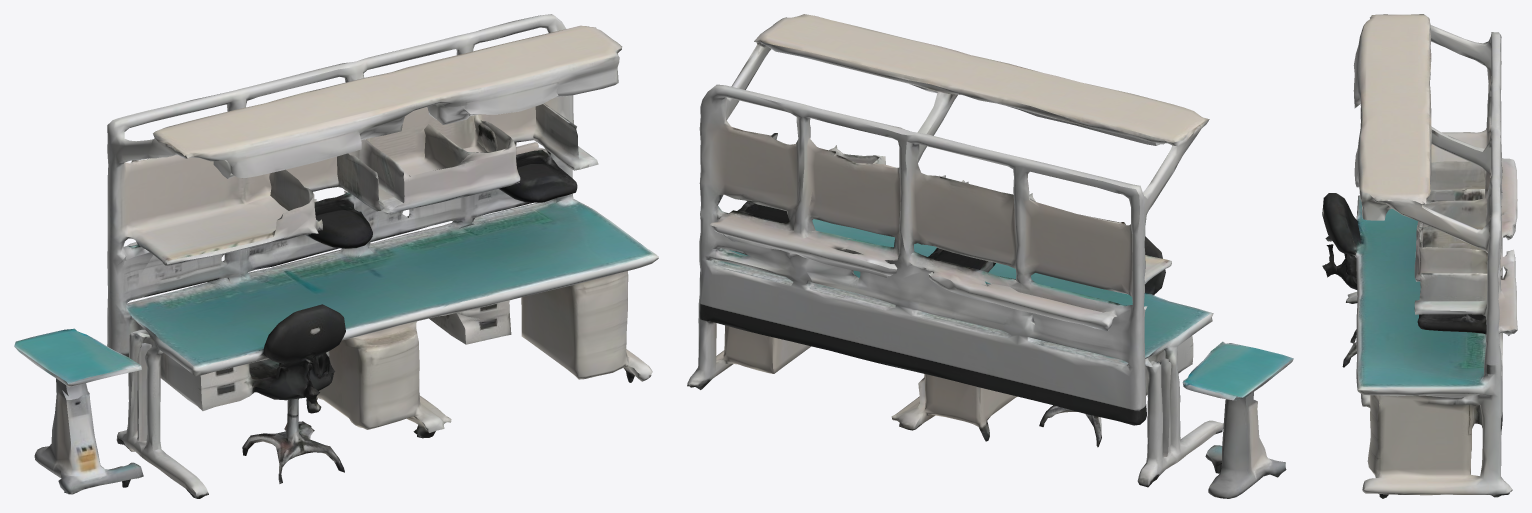
File: lab_table_b.glb
3 views of the same model, side by side, from view 1: azimuth 30°, elevation 25°; view 2: azimuth 150°, elevation 25°; view 3: azimuth 270°, elevation 25° (orthographic). The views are drawn at different scales.
Parts seen in each view (by area): view 1: lab_table_b; view 2: lab_table_b; view 3: lab_table_b.
Part boxes in pixels (x1,y1,x2,y2): lab_table_b: (14, 14, 658, 498); lab_table_b: (687, 14, 1293, 498); lab_table_b: (1322, 14, 1517, 498).
Bounding box in the file's own units: 3.92 × 2.29 × 1.36.
1 material, 1 textured.
